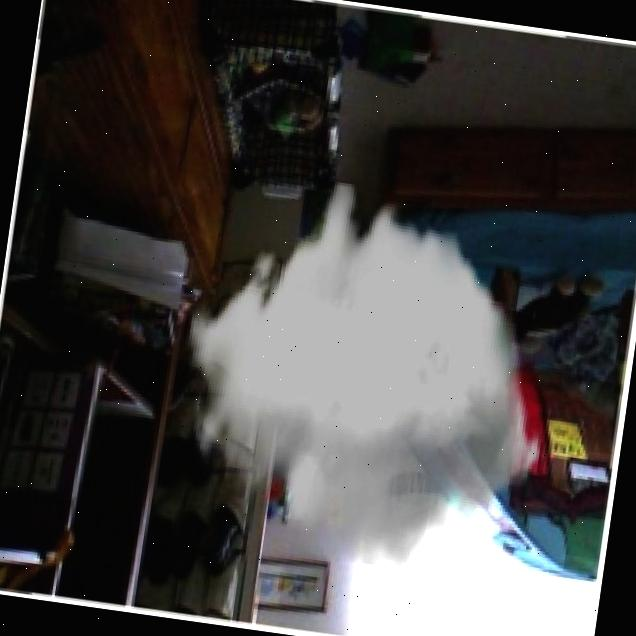smoke: (158, 165, 576, 586)
